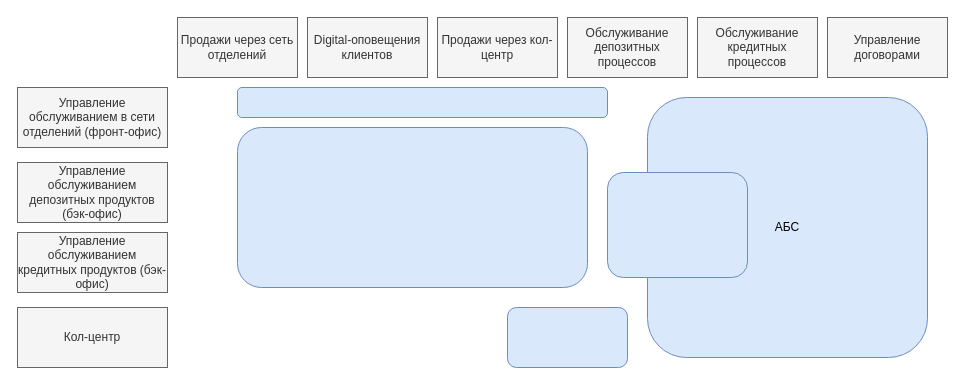
Some shapes in this 965 by 385 pixel diagram are drawn without their labels. Each missing label, with the box of its shape:
E-MAIL: (236, 126, 588, 288)
EXCEL: (606, 172, 748, 278)
Система кол-центра: (506, 306, 628, 368)
СМС-шлюз: (236, 86, 608, 118)
